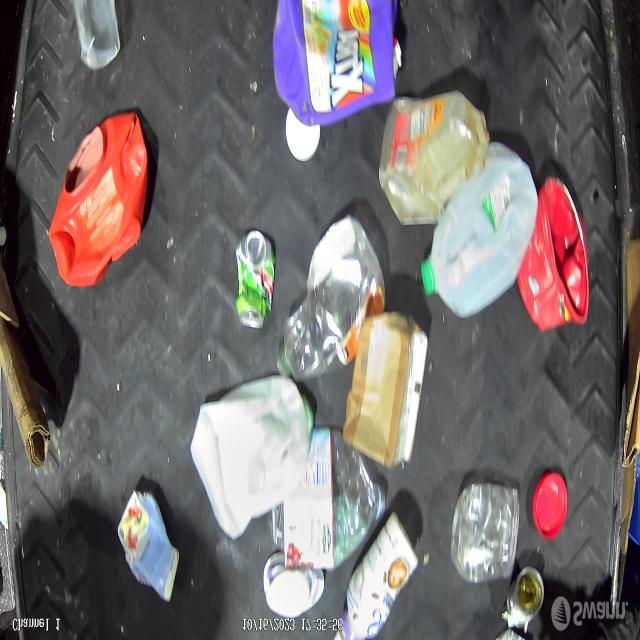can: (236, 226, 276, 333)
milk_jug: (417, 141, 540, 322), (192, 377, 310, 536)
non_white_jug: (50, 110, 147, 287), (277, 0, 394, 131)
plastic_bottle: (277, 230, 375, 377)
